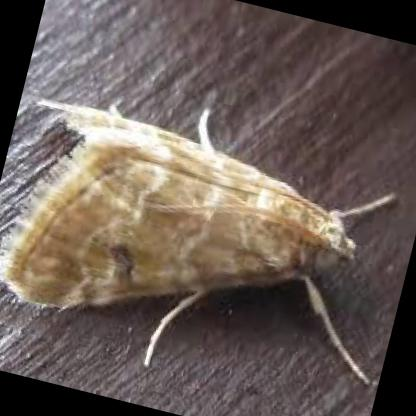Hellula undalis: (0, 91, 409, 387)
